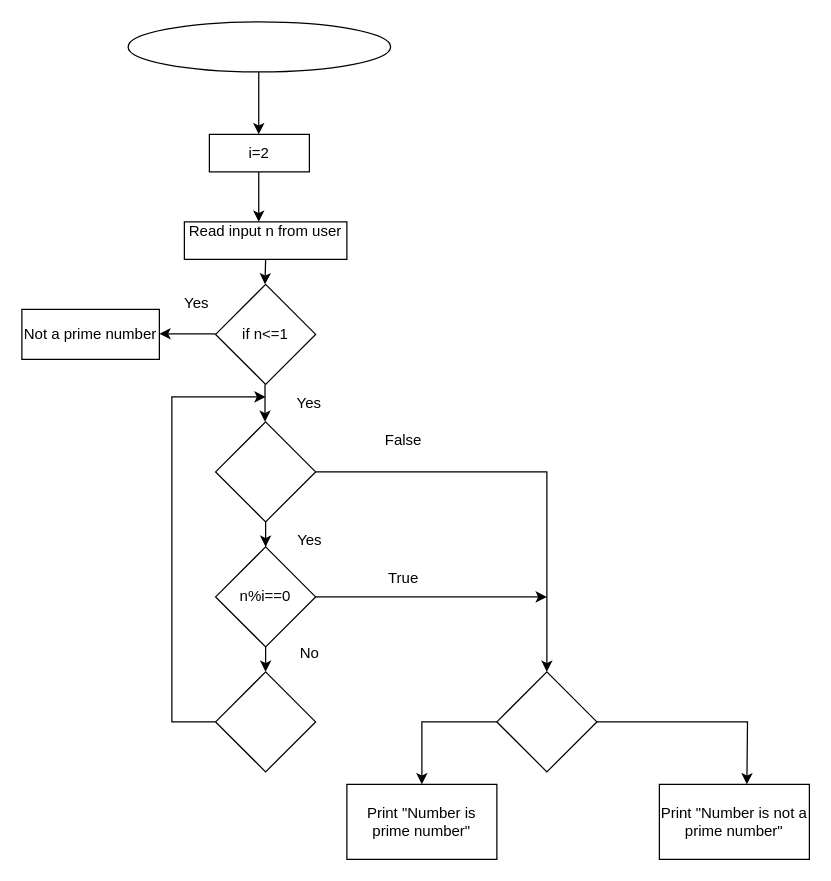
The diagram is 831 pixels wide and 881 high, and some of its shapes have lost their labels. Each missing label, with the centre of its shape:
"Check if prime number" belongs at pixel 259 46.
"i<(n/2)" belongs at pixel 265 471.
"i==n" belongs at pixel 546 721.
"i=i+1" belongs at pixel 265 721.
